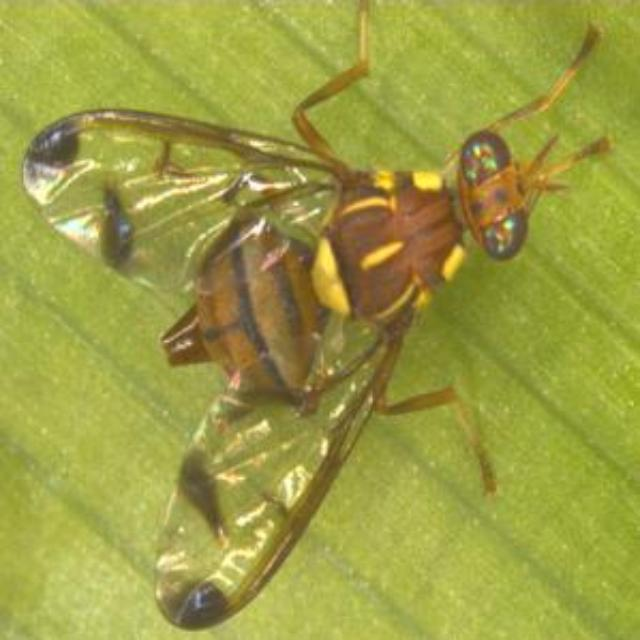melon fly: (24, 2, 640, 640)
